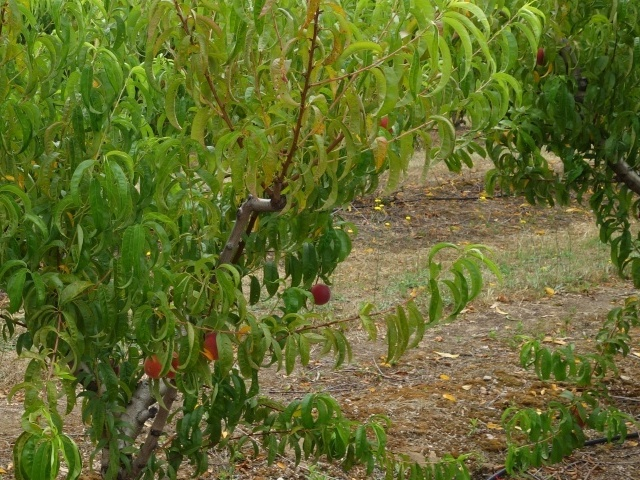peach: (197, 327, 222, 363), (141, 348, 167, 382), (306, 281, 333, 309)
